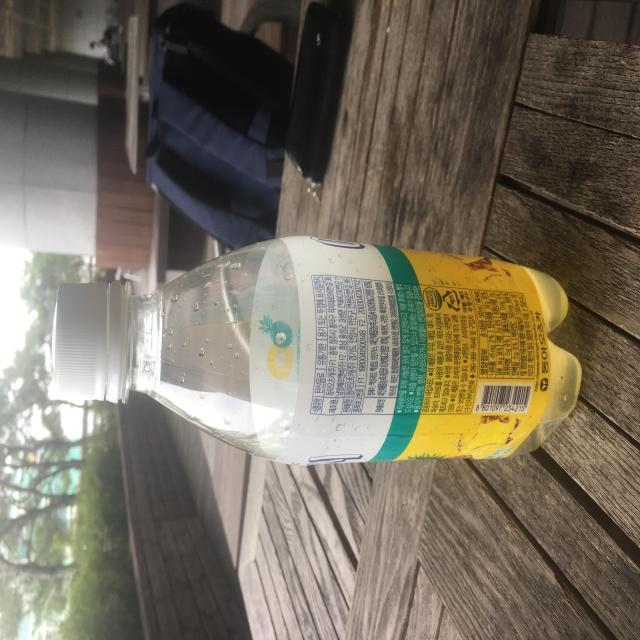bottle: (45, 225, 588, 478)
